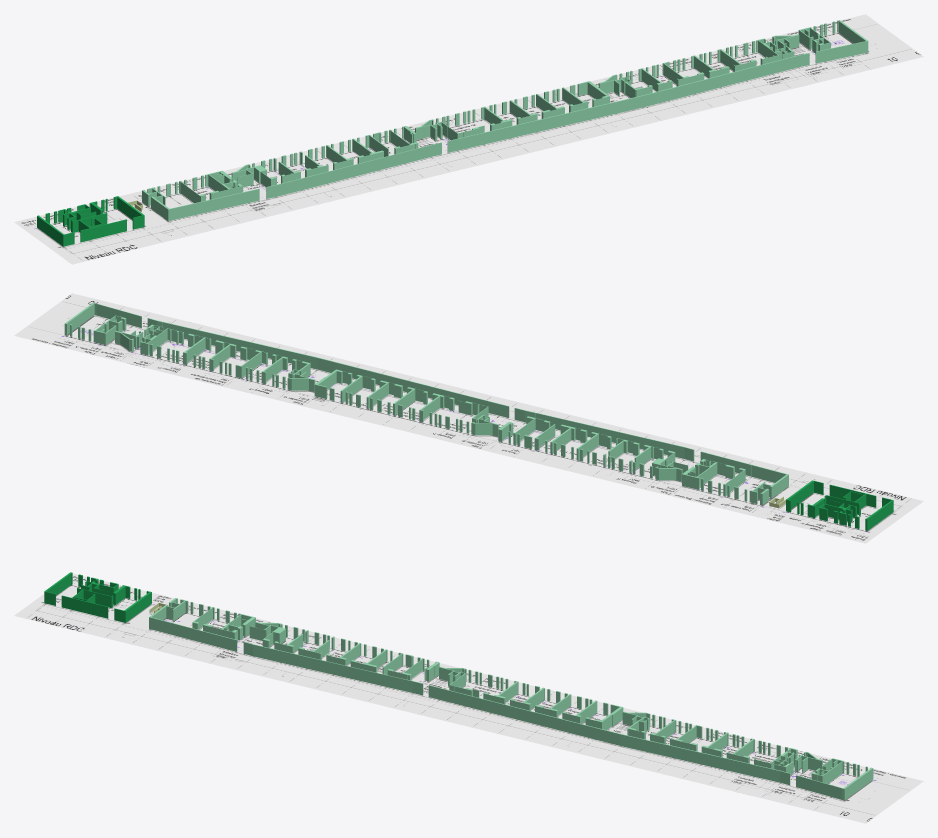
Rendered from hearc_0.obj.
The picture shows the model from 3 angles, top to bottom: view 1: azimuth 30°, elevation 25°; view 2: azimuth 150°, elevation 25°; view 3: azimuth 330°, elevation 25°; orthographic projection.
Parts seen in each view (by area): view 1: Floor_0, Batiment, Commerce; view 2: Floor_0, Batiment, Commerce; view 3: Floor_0, Batiment, Commerce.
Boxes of the visible parts, <box> form: Floor_0: <box>14,14,923,264</box>; Batiment: <box>142,20,868,221</box>; Commerce: <box>37,196,144,246</box>; Floor_0: <box>14,293,923,543</box>; Batiment: <box>64,302,788,505</box>; Commerce: <box>786,480,893,530</box>; Floor_0: <box>14,573,923,823</box>; Batiment: <box>149,598,873,800</box>; Commerce: <box>44,572,151,622</box>.
Bounding box in the file's own units: 7668 × 109 × 907.
Materials: 4 (1 with a texture image).
